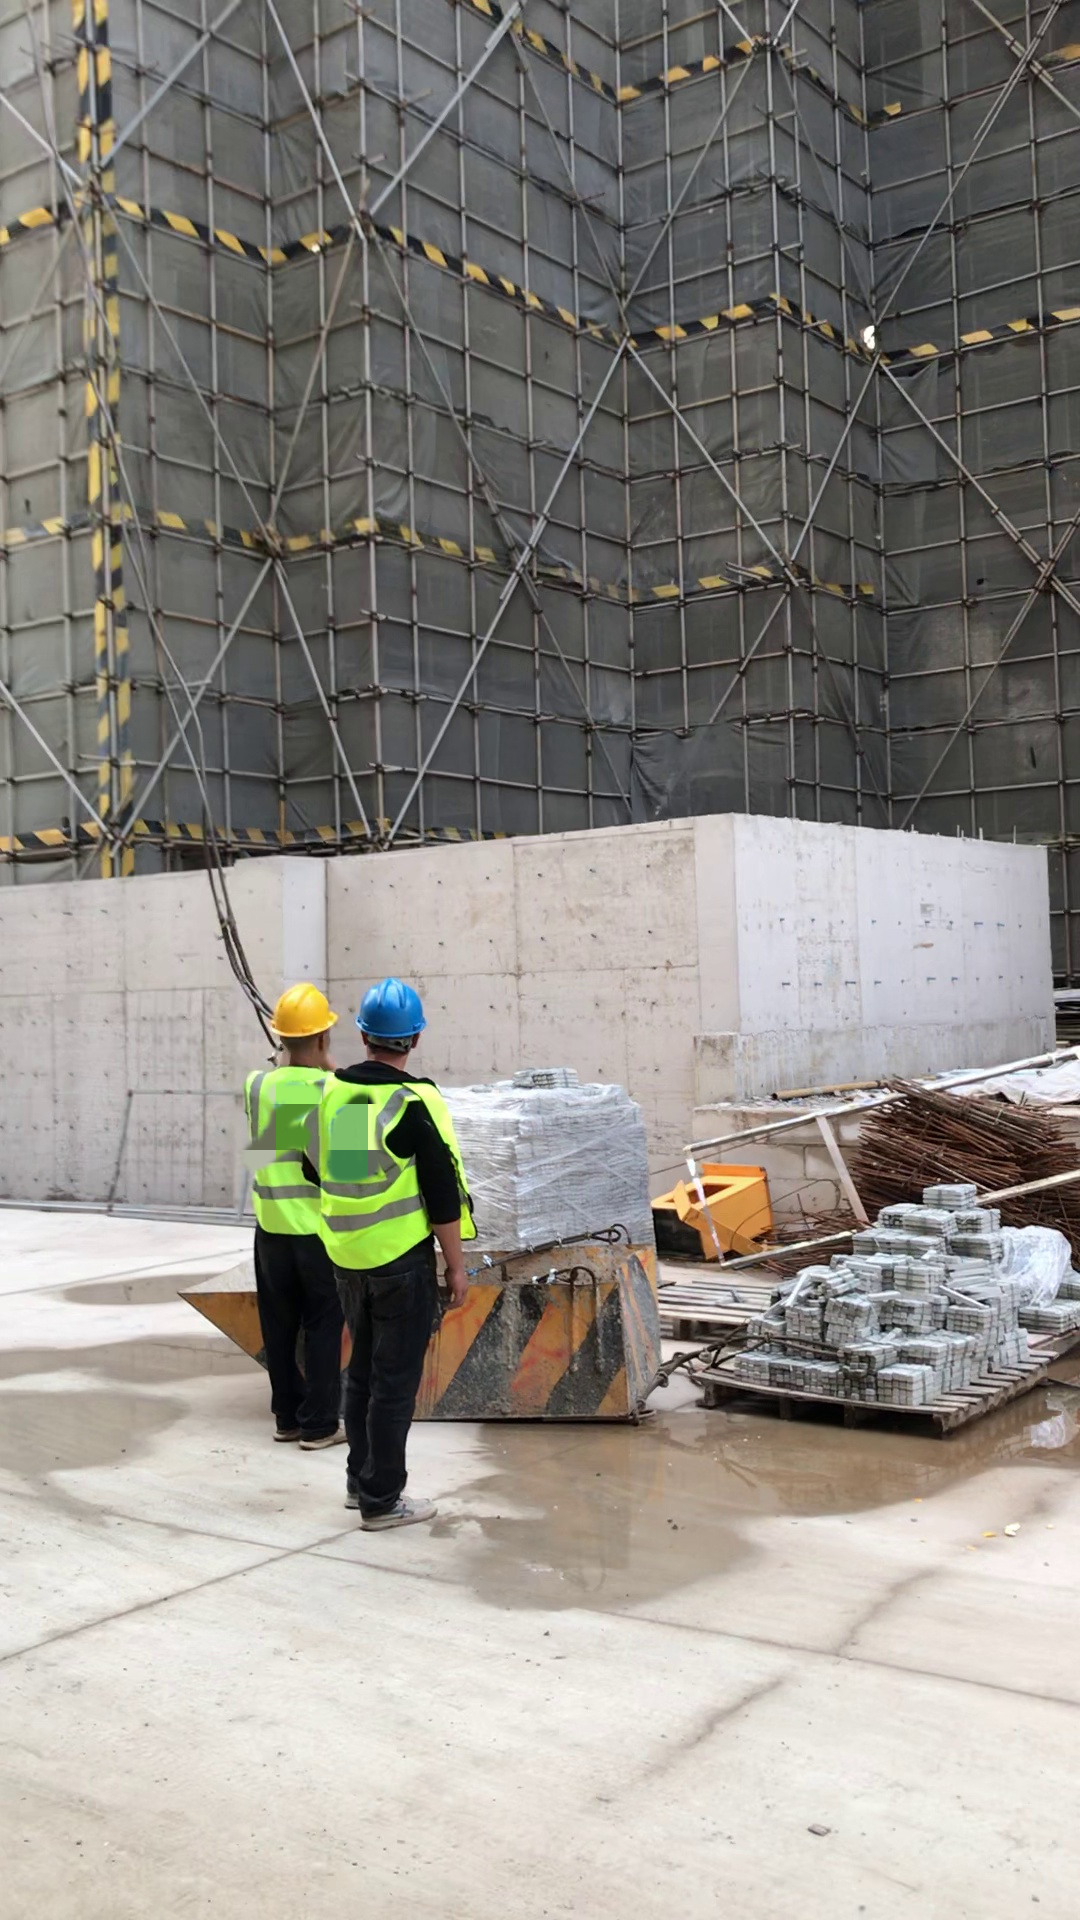helmet: (354, 981, 431, 1038), (269, 980, 338, 1038)
hopper: (178, 1240, 684, 1449)
person: (310, 984, 512, 1537), (218, 976, 386, 1445)
vest: (321, 1070, 476, 1261), (251, 1070, 327, 1231)
